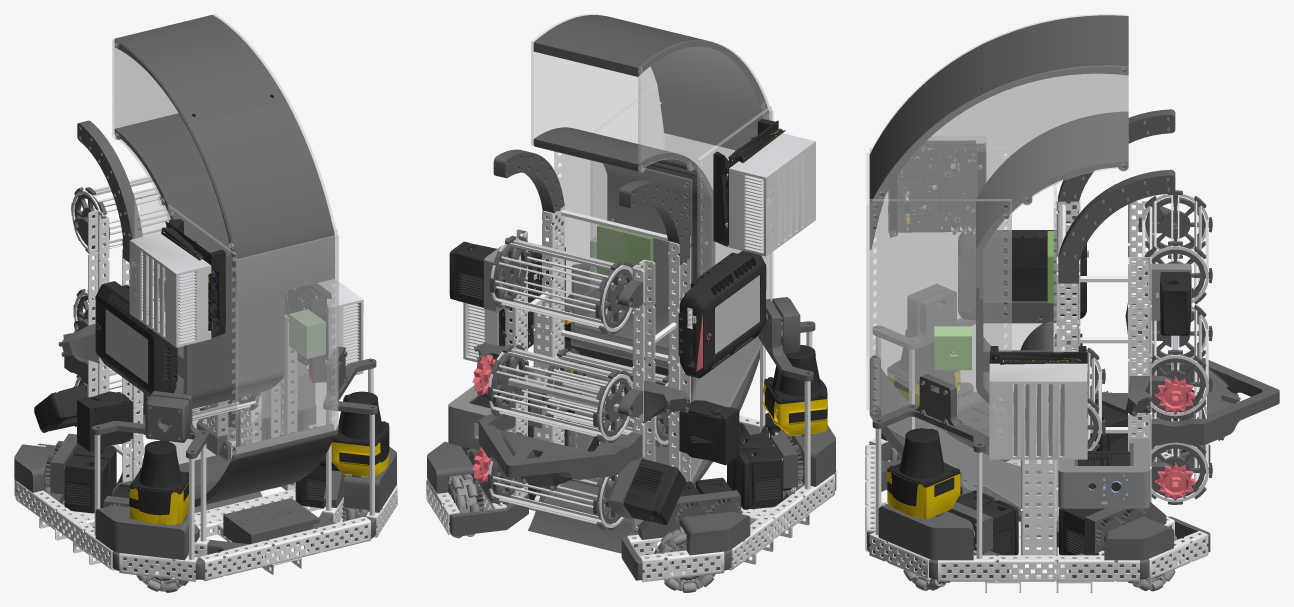
The model's file is mqp_robot.glb.
3 renders of one model, left to right at view 1: azimuth 30°, elevation 25°; view 2: azimuth 150°, elevation 25°; view 3: azimuth 270°, elevation 25°, orthographic. The views are drawn at different scales.
Visible parts, largest first — view 1: Part 1.004, Part 3.002, Part 14, Part 16, Part 3.001, Part 4, Part 3, Part 15, 1 x 2 x 1 xâââ ââââ17âââ ââââAluminum C-Channel (276-2289).0 (×2), GALEN_METAL_BASE_COVER, Part 2.003, V5 Robot Brain (276-4810) (+44 smaller); view 2: Part 11, Part 14, Part 3.002, Part 15, V5 Robot Brain (276-4810), Part 14.001, GALEN_METAL_BASE_COVER, Part 1.005, Part 16, Part 3, Part 4, Part 3.001 (+55 smaller); view 3: Part 3.001, Part 3, Part 14.001, GALEN_METAL_BASE_COVER.001, Part 14, Part 15, Part 16, V5 Robot Brain (276-4810), Part 3.002, Part 2.003, Part 1.005, Gehaeuse_f_Steckerdreheck_DUMMY.001 (+45 smaller).
Boxes of the visible parts, x1,y1,x2,y2 form: Part 1.004: (235,235,338,453); Part 3.002: (181,96,334,302); Part 14: (112,38,235,254); Part 16: (114,14,284,124); Part 3.001: (246,227,337,443); Part 4: (174,290,284,408); Part 3: (158,205,237,478); Part 15: (114,113,235,291); 1 x 2 x 1 xâââ ââââ17âââ ââââAluminum C-Channel (276-2289).0 (×2): (15,481,370,580); GALEN_METAL_BASE_COVER: (129,232,211,347); Part 2.003: (188,424,334,513); V5 Robot Brain (276-4810): (95,281,177,396); Part 11: (554,151,691,368); Part 14: (638,40,770,173); Part 3.002: (650,43,769,150); Part 15: (533,127,713,249); V5 Robot Brain (276-4810): (678,251,766,378); Part 14.001: (531,14,656,145); GALEN_METAL_BASE_COVER: (729,133,815,256); Part 1.005: (478,401,642,490); Part 16: (533,15,715,76); Part 3: (680,106,771,481); Part 4: (571,218,715,393); Part 3.001: (568,88,664,450); Part 3.001: (870,199,1052,516); Part 3: (869,148,1056,462); Part 14.001: (872,65,1128,214); GALEN_METAL_BASE_COVER.001: (989,363,1087,459); Part 14: (872,14,1128,153); Part 15: (976,111,1128,298); Part 16: (974,15,1128,101); V5 Robot Brain (276-4810): (958,230,1088,322); Part 3.002: (869,48,988,249); Part 2.003: (869,355,1052,536); Part 1.005: (1151,358,1279,445); Gehaeuse_f_Steckerdreheck_DUMMY.001: (887,428,960,519).
Size of the model in its own units: 0.3709 by 0.5816 by 0.4428.
